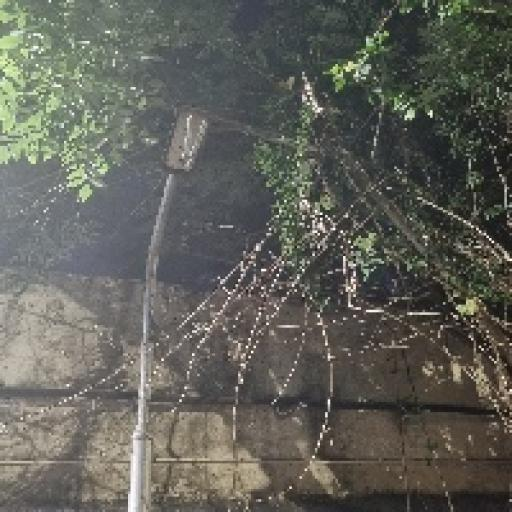Not Working: (149, 95, 217, 192)
